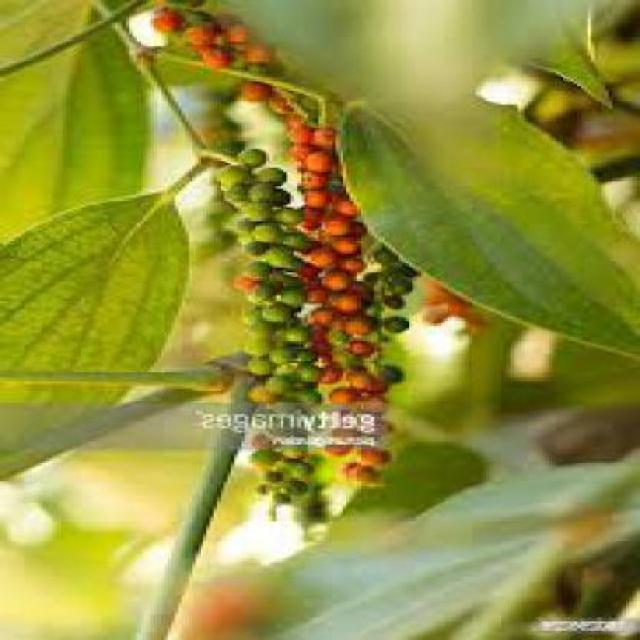RIPE: (319, 141, 402, 477), (158, 8, 337, 140)
UNRIPE: (231, 149, 311, 509)
